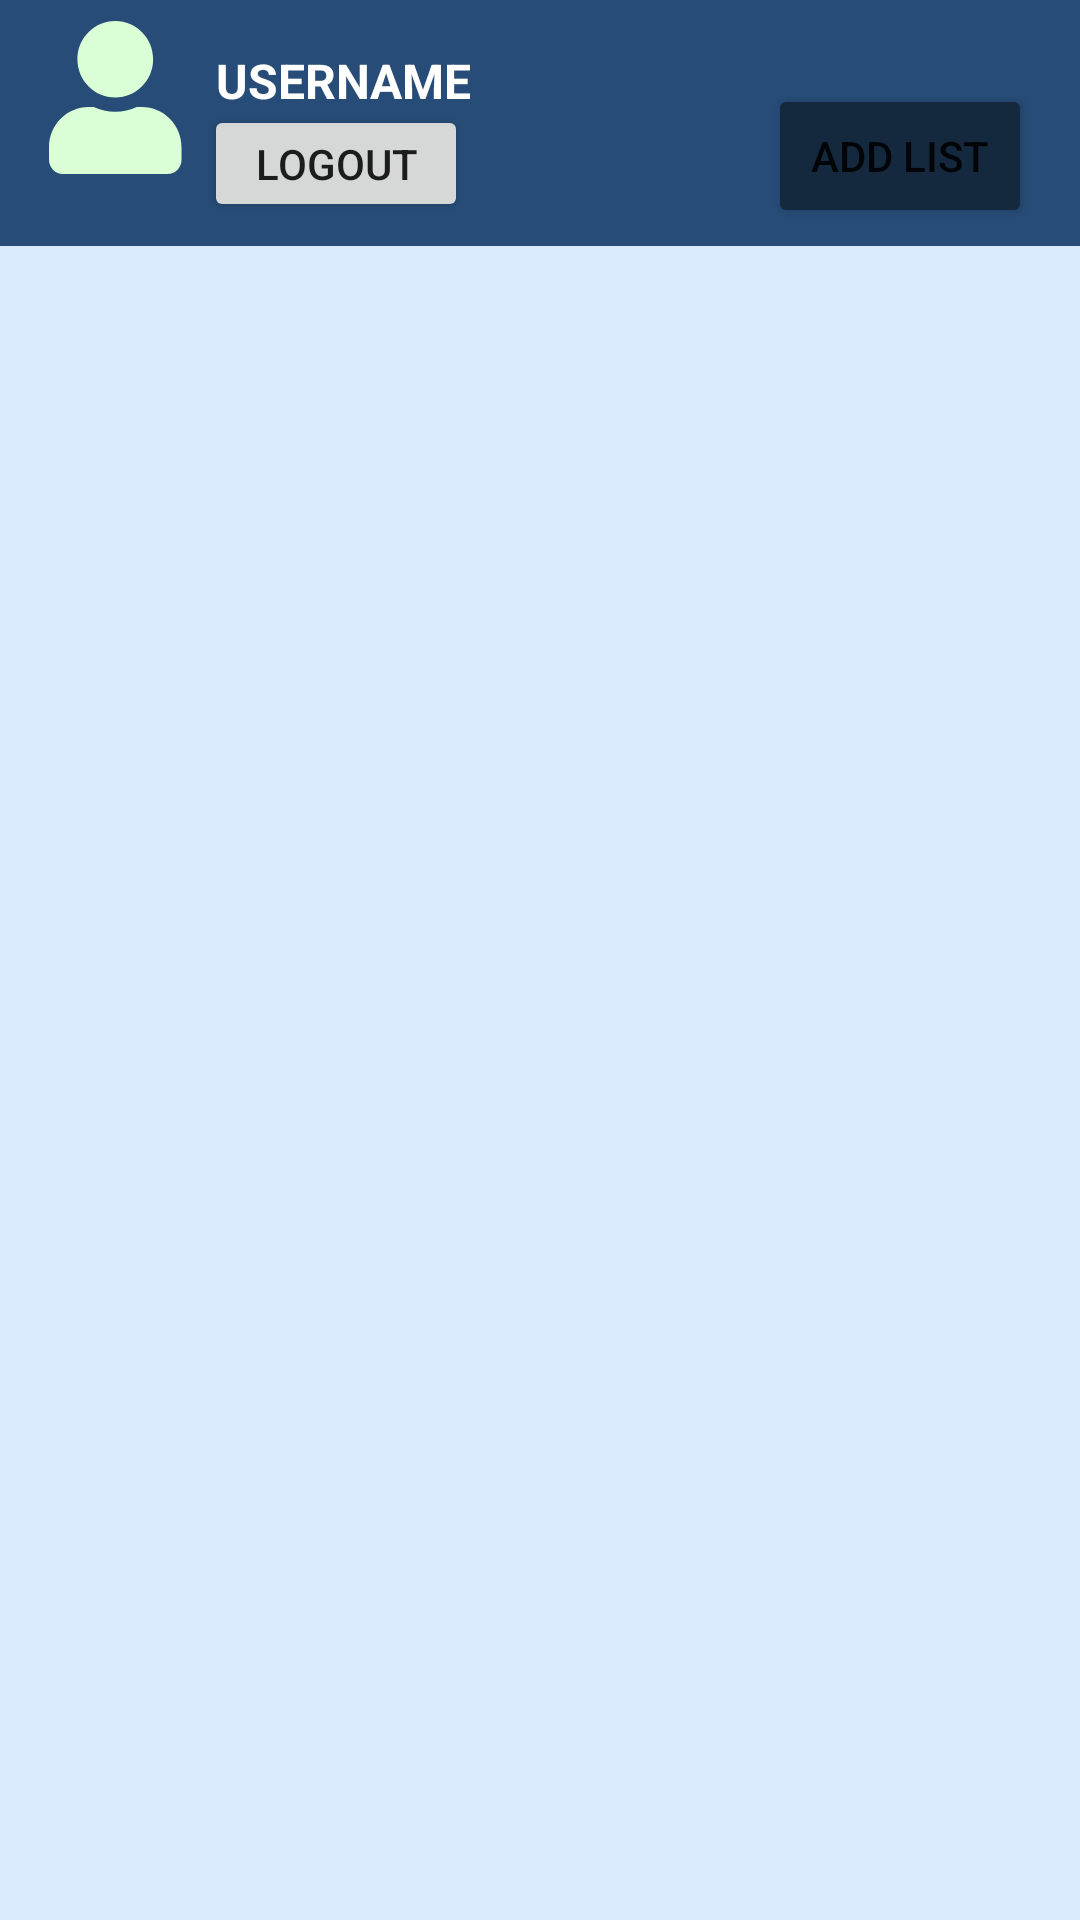

Screen size 1080×1920. Icon name, then its box in pixels as (x1, y1, x2, y2):
Profile icon: (49, 21, 182, 174)
